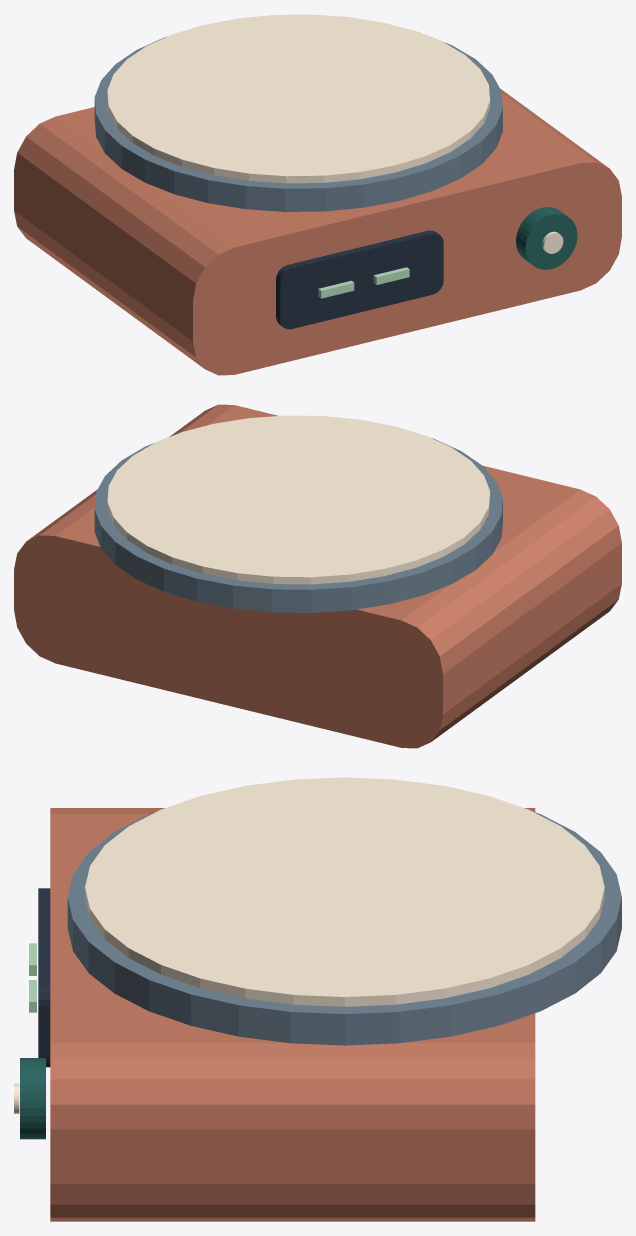
File: scale.glb
3 views of the same model, one above another, from view 1: azimuth 30°, elevation 25°; view 2: azimuth 150°, elevation 25°; view 3: azimuth 270°, elevation 25° (orthographic). The views are drawn at different scales.
Parts seen in each view (by area): view 1: base, plate face, weighing plate, screen, tare key; view 2: base, plate face, weighing plate; view 3: base, plate face, weighing plate, screen, tare key.
Part boxes in pixels (<box>): base: <box>14,32,621,375</box>; plate face: <box>107,14,490,183</box>; weighing plate: <box>94,35,502,211</box>; screen: <box>276,230,443,329</box>; tare key: <box>516,207,577,269</box>; base: <box>14,404,621,748</box>; plate face: <box>107,415,490,584</box>; weighing plate: <box>94,438,502,612</box>; base: <box>50,808,535,1221</box>; plate face: <box>85,777,604,1006</box>; weighing plate: <box>67,811,621,1045</box>; screen: <box>38,888,50,1067</box>; tare key: <box>20,1058,45,1139</box>.
Bounding box in the file's own units: 1.55 × 0.545 × 1.4.
